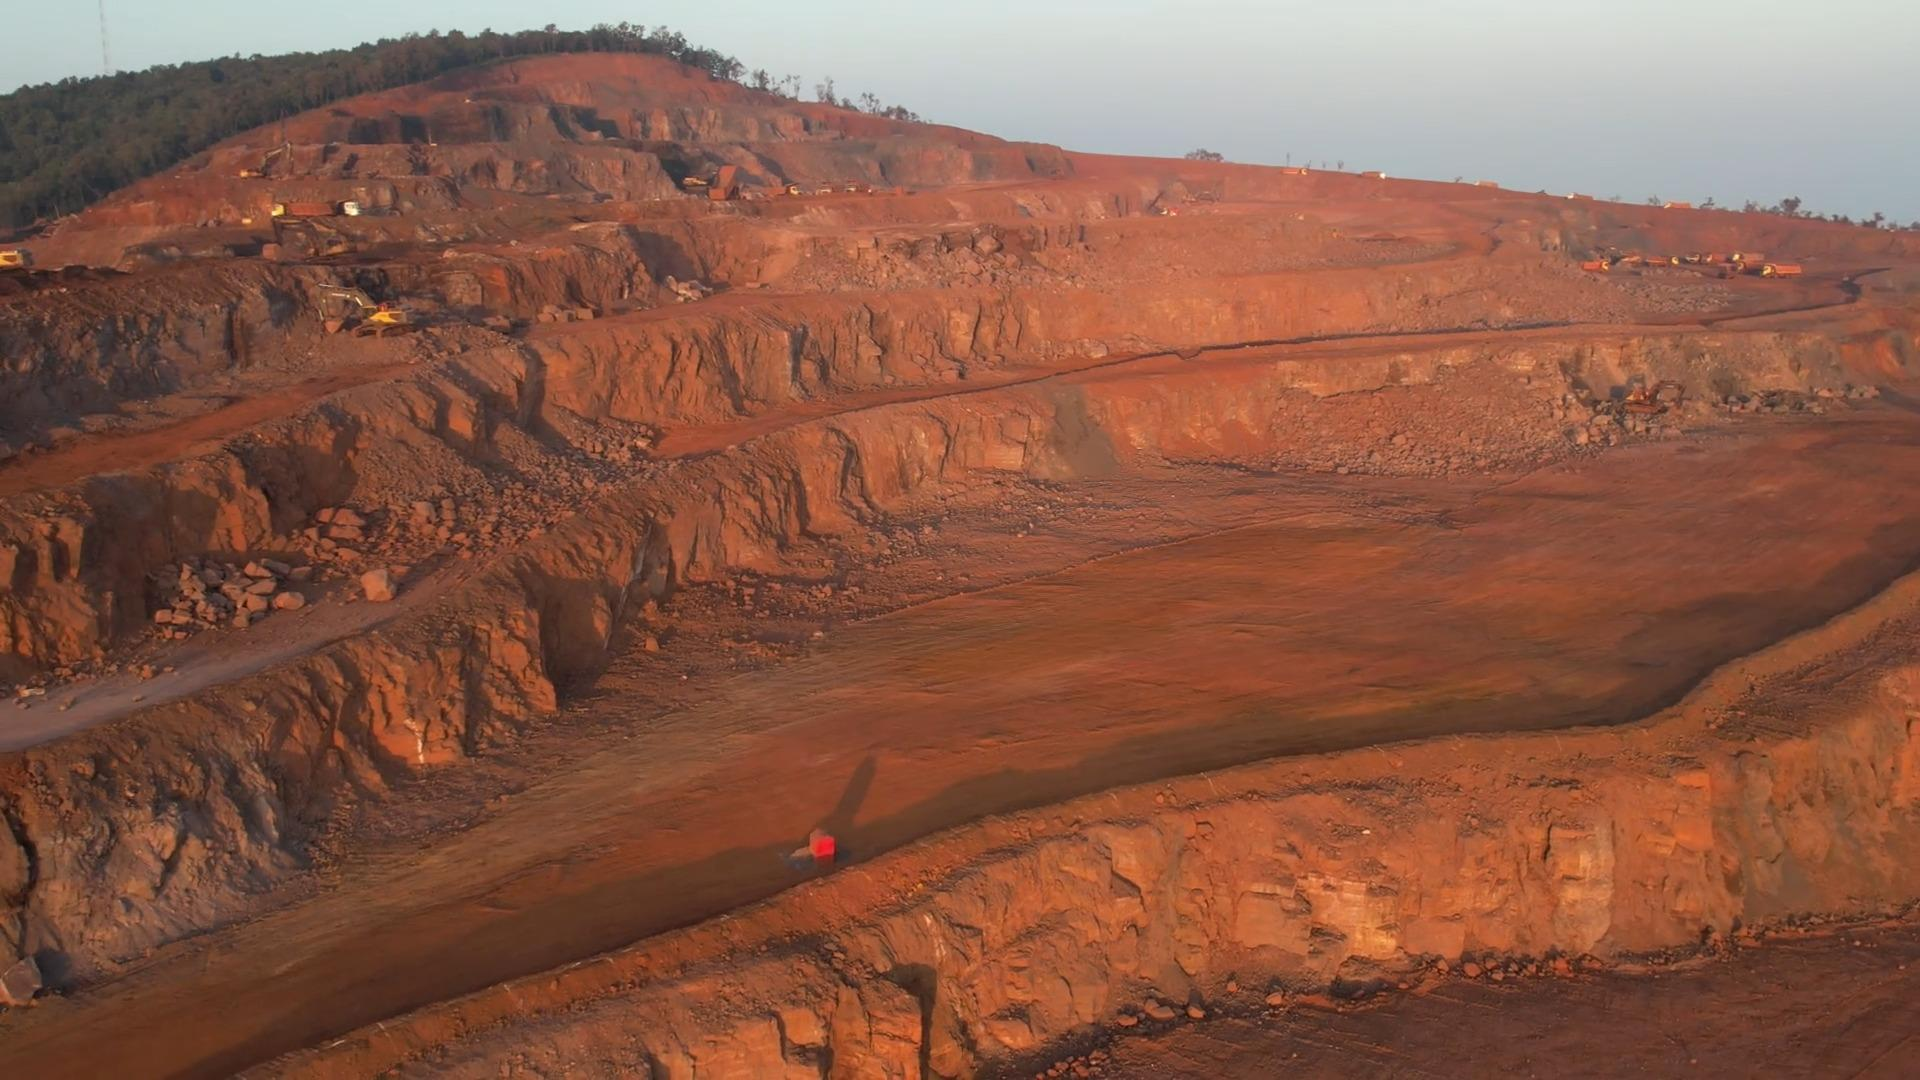excavator: (318, 282, 418, 338), (266, 212, 365, 266), (1625, 380, 1688, 414)
